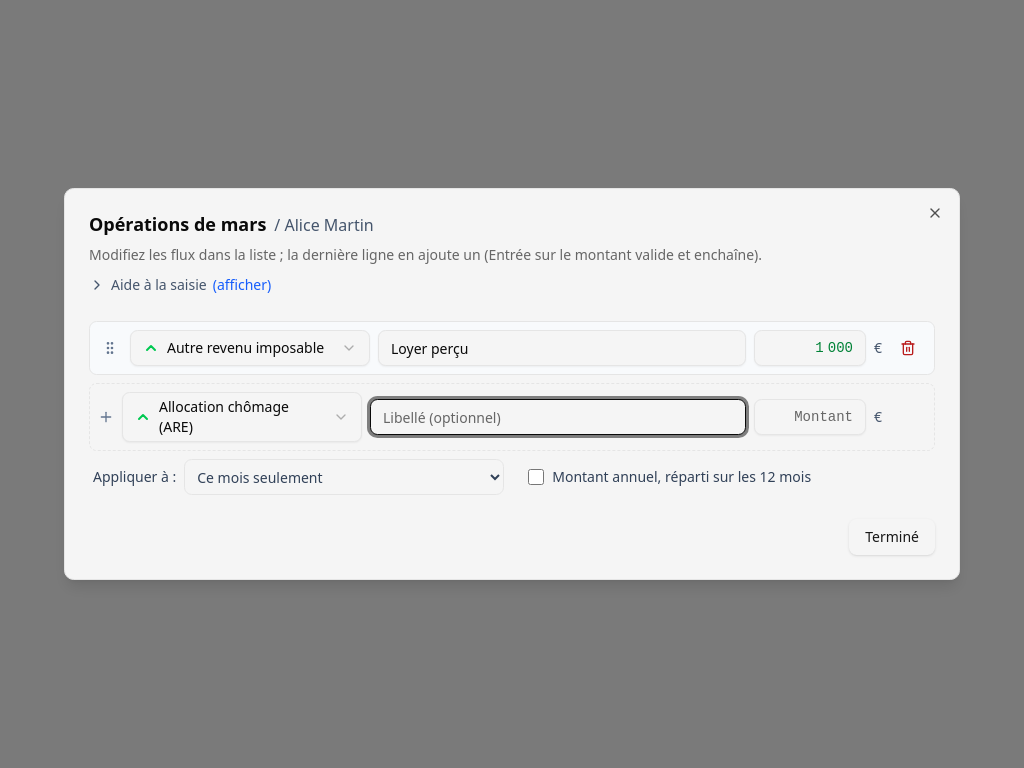
MonthlyFlowsModal : lignes existantes › refuse aussi un montant négatif, avec le même message
Replace the text in the field named "Montant" with "-500". click: (810, 348)
box: [754, 330, 866, 366]
Then press Enter
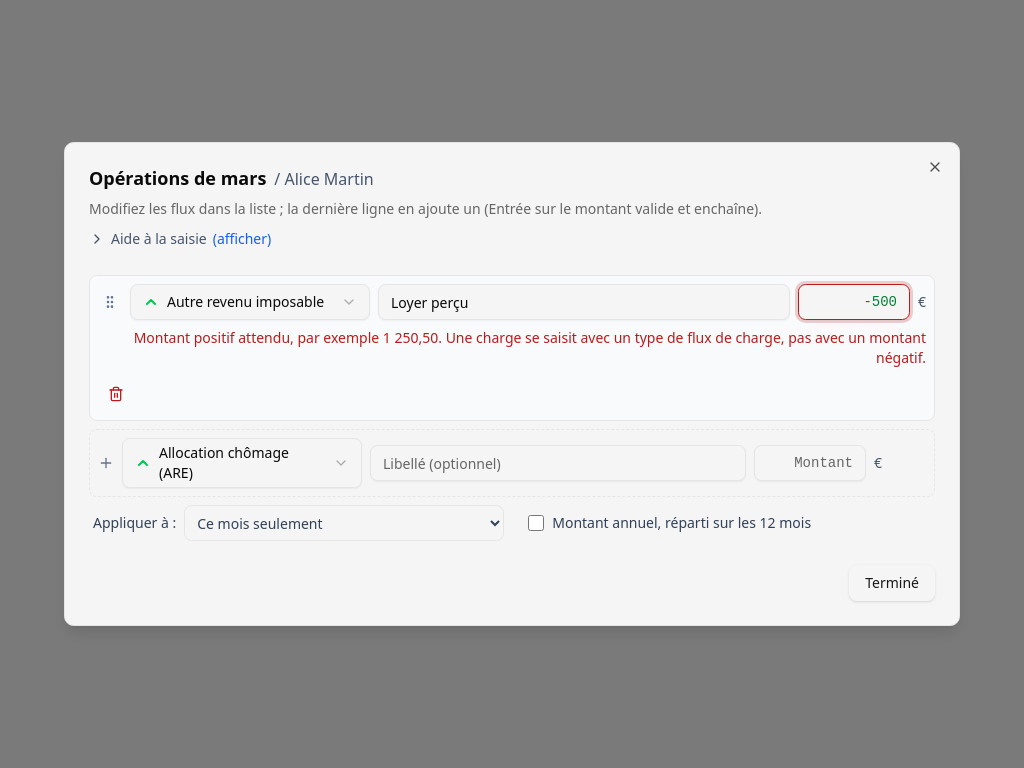
Now the message shows "Montant positif attendu", box [134, 328, 926, 367]
